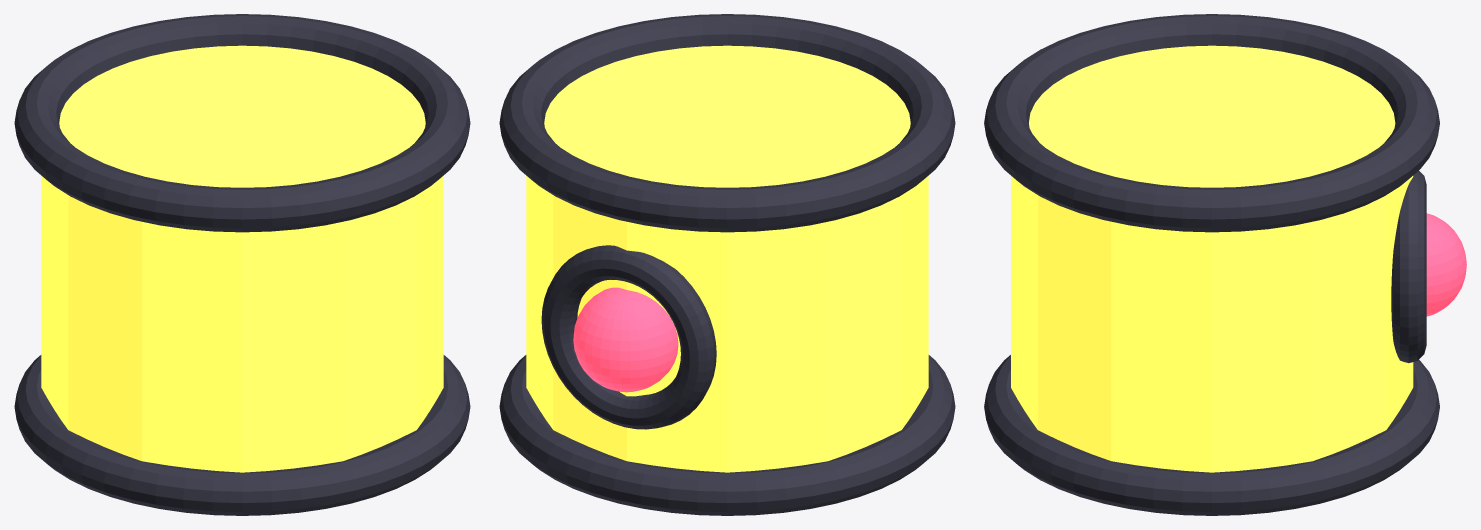
File: enemy_chochin.glb
3 renders of one model, left to right at view 1: azimuth 30°, elevation 25°; view 2: azimuth 150°, elevation 25°; view 3: azimuth 270°, elevation 25°, orthographic.
Visible parts, largest first — view 1: Cylinder, Torus.001, Torus; view 2: Cylinder, Torus.001, Torus, Torus.002, Sphere; view 3: Cylinder, Torus.001, Torus, Torus.002, Sphere.
Boxes of the visible parts, x1,y1,x2,y2 form: Cylinder: (41, 45, 443, 472); Torus.001: (14, 14, 470, 232); Torus: (14, 355, 470, 515); Cylinder: (526, 45, 928, 472); Torus.001: (499, 14, 955, 232); Torus: (499, 355, 955, 515); Torus.002: (541, 245, 716, 429); Sphere: (573, 287, 678, 392); Cylinder: (1011, 45, 1413, 472); Torus.001: (984, 14, 1439, 232); Torus: (984, 355, 1439, 515); Torus.002: (1391, 171, 1426, 363); Sphere: (1426, 213, 1466, 316).
Bounding box in the file's own units: 1.02 × 0.8 × 1.08.
